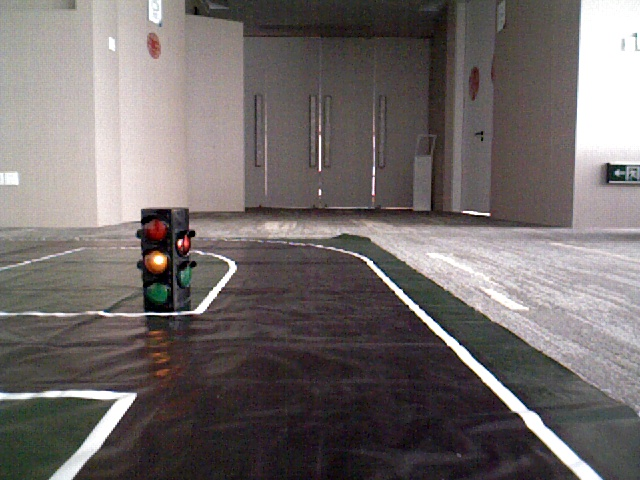yellow: (141, 210, 177, 305)
